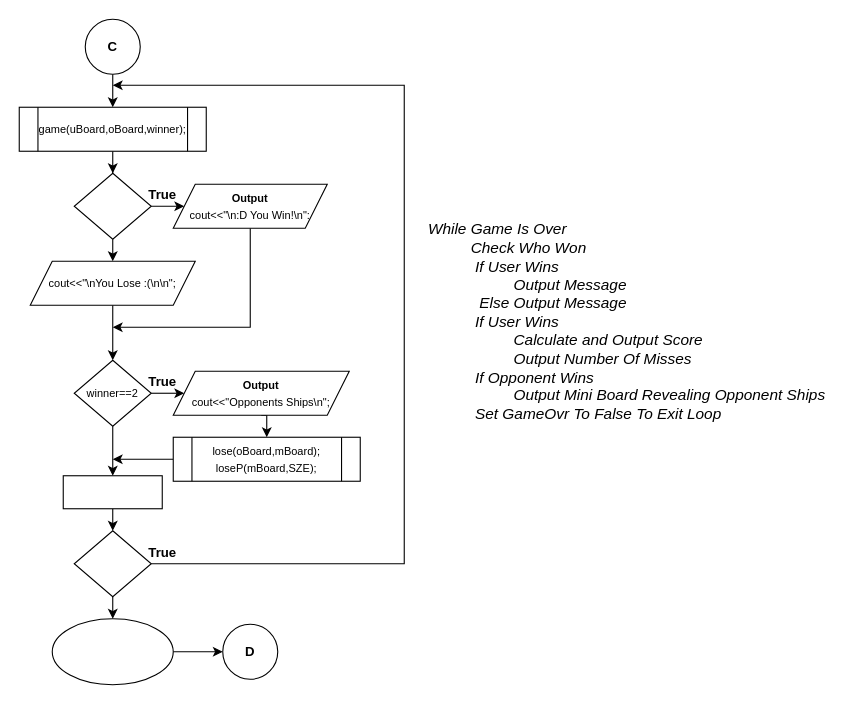
The diagram is 864 pixels wide and 704 high, and some of its shapes have lost their labels. Here are the shapes that lost their labels. From the top down, the centre of each, then its label:
At point 112,205: "winner==1".
At point 112,492: "gameOvr=false;".
At point 112,563: "gameOver".
At point 112,651: "Return from Battleship".
